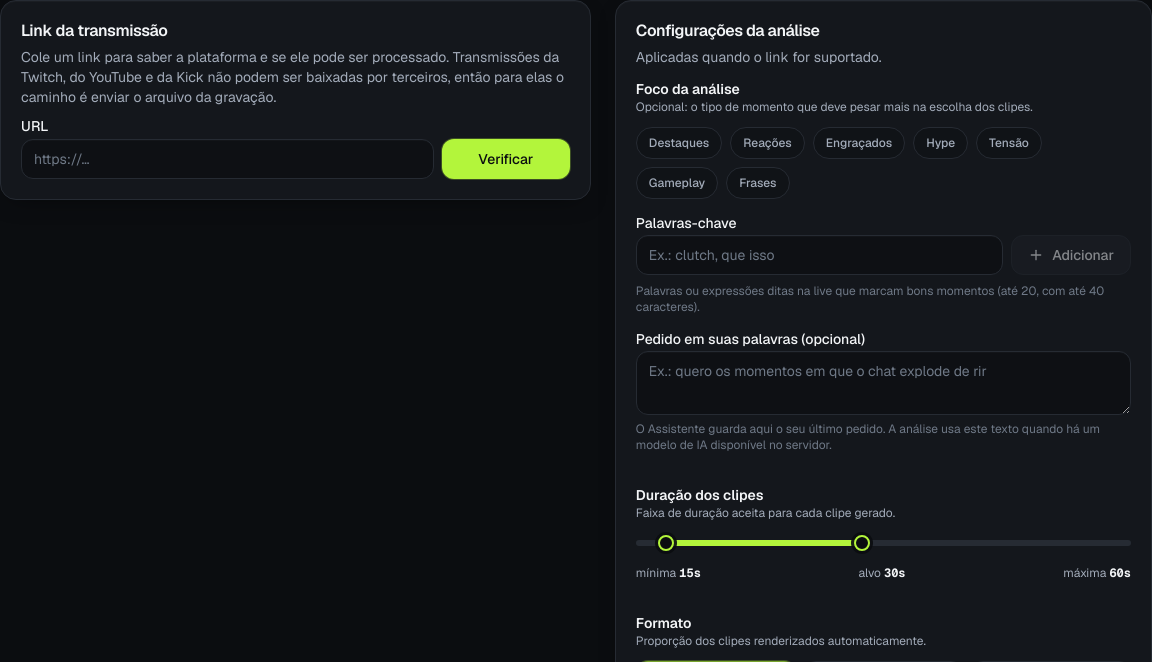
LinkTab project creation › shows the verdict right under the field, focuses it and announces it
The width and height of the screenshot is (1152, 662).
Type "https://www.twitch.tv/videos/123" into the field labelled "URL". click: (227, 159)
box: [21,139,434,179]
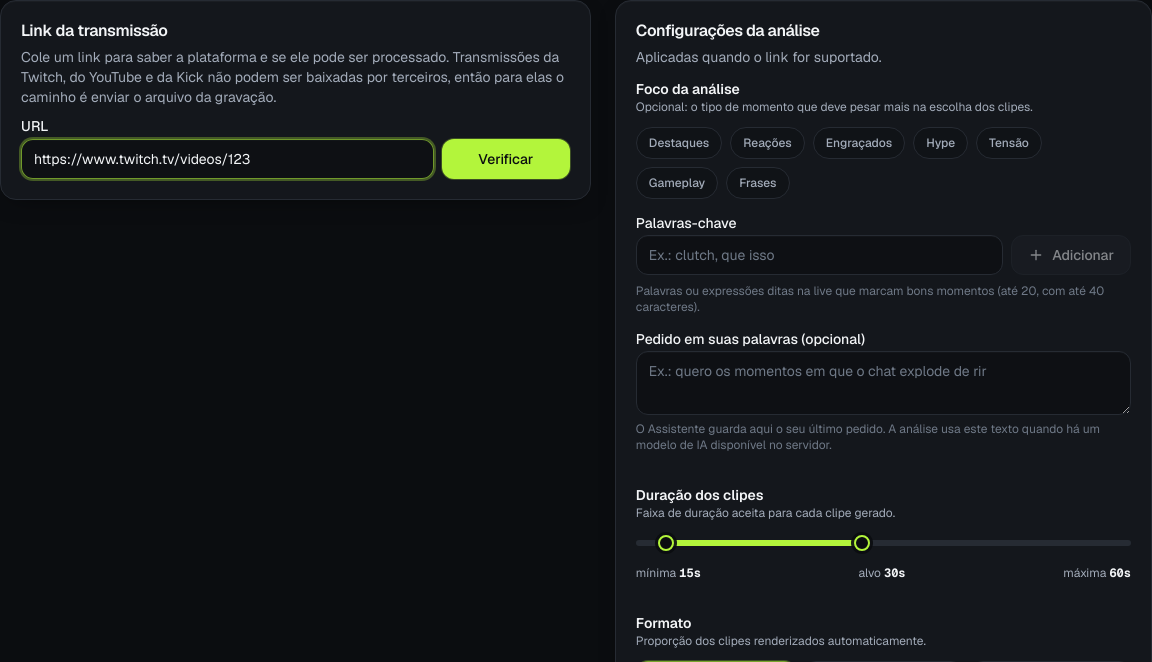
Click the button "Verificar". click: (506, 159)
box: [442,139,570,179]
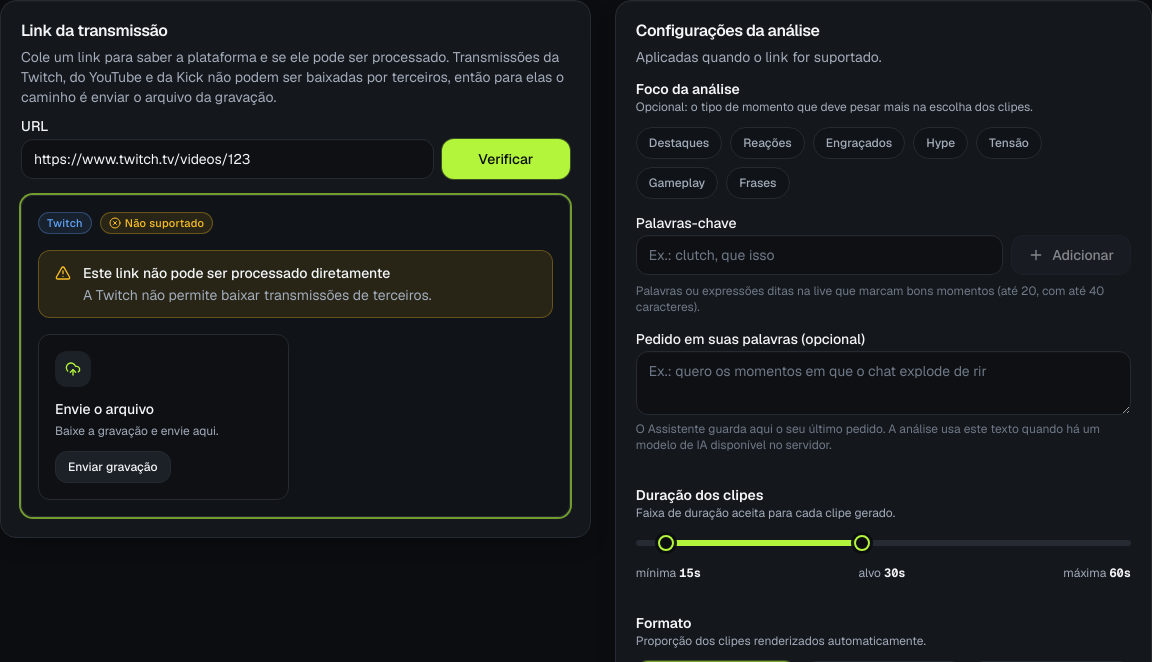
Expected: the element named "Resultado da verificação do link" shows "Não suportado", [125,216,204,230]
Expected: the element named "Resultado da verificação do link" shows "A Twitch não permite baixar transmissões de terceiros.", [83,286,432,304]
